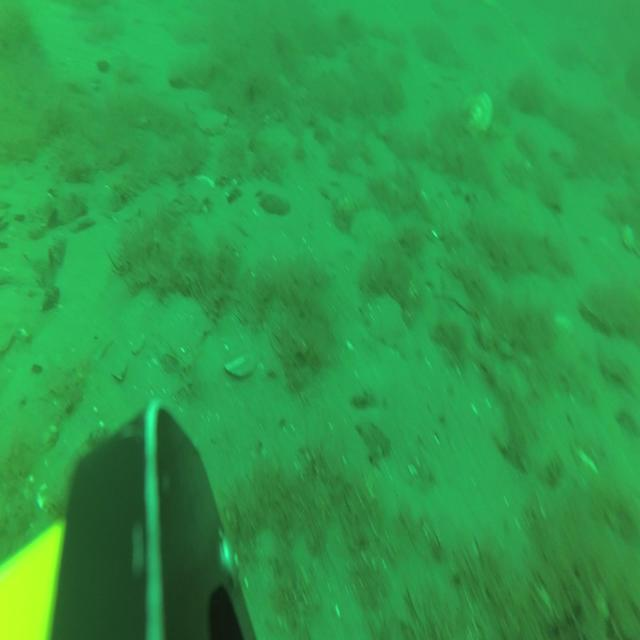scallop: (158, 299, 212, 354), (362, 294, 408, 347), (468, 92, 493, 131), (194, 108, 227, 133), (621, 222, 637, 250)
